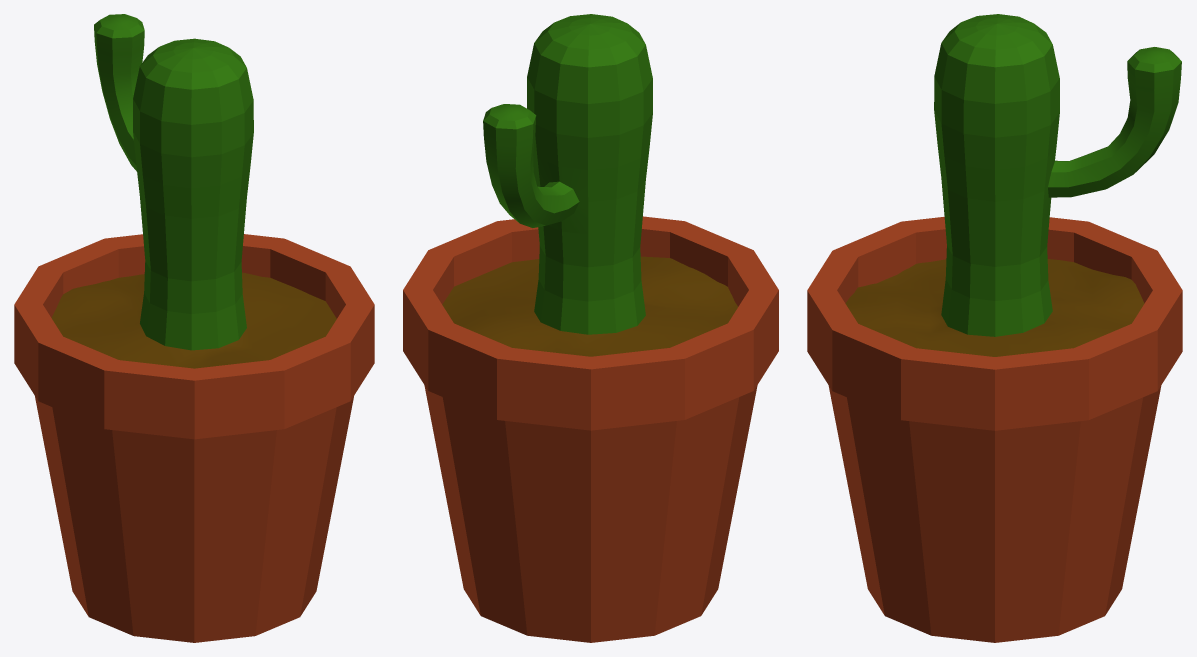
Rendered from CactusVersNormal.fbx.
3 renders of one model, left to right at view 1: azimuth 30°, elevation 25°; view 2: azimuth 150°, elevation 25°; view 3: azimuth 270°, elevation 25°, orthographic. The views are drawn at different scales.
Parts seen in each view (by area): view 1: Cactus; view 2: Cactus; view 3: Cactus.
Boxes of the visible parts, <box> form: Cactus: <box>14,14,374,642</box>; Cactus: <box>403,14,778,642</box>; Cactus: <box>807,14,1182,642</box>.
Bounding box in the file's own units: 22.37 × 37.17 × 22.37.
